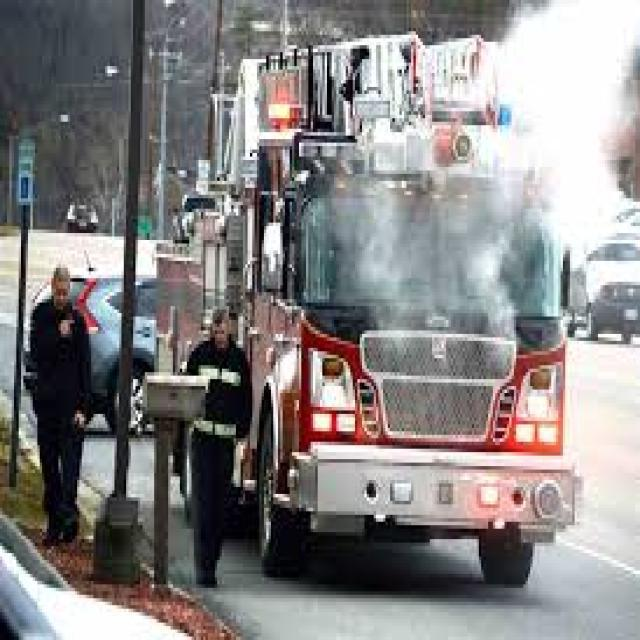Smoke: (353, 0, 640, 359)
